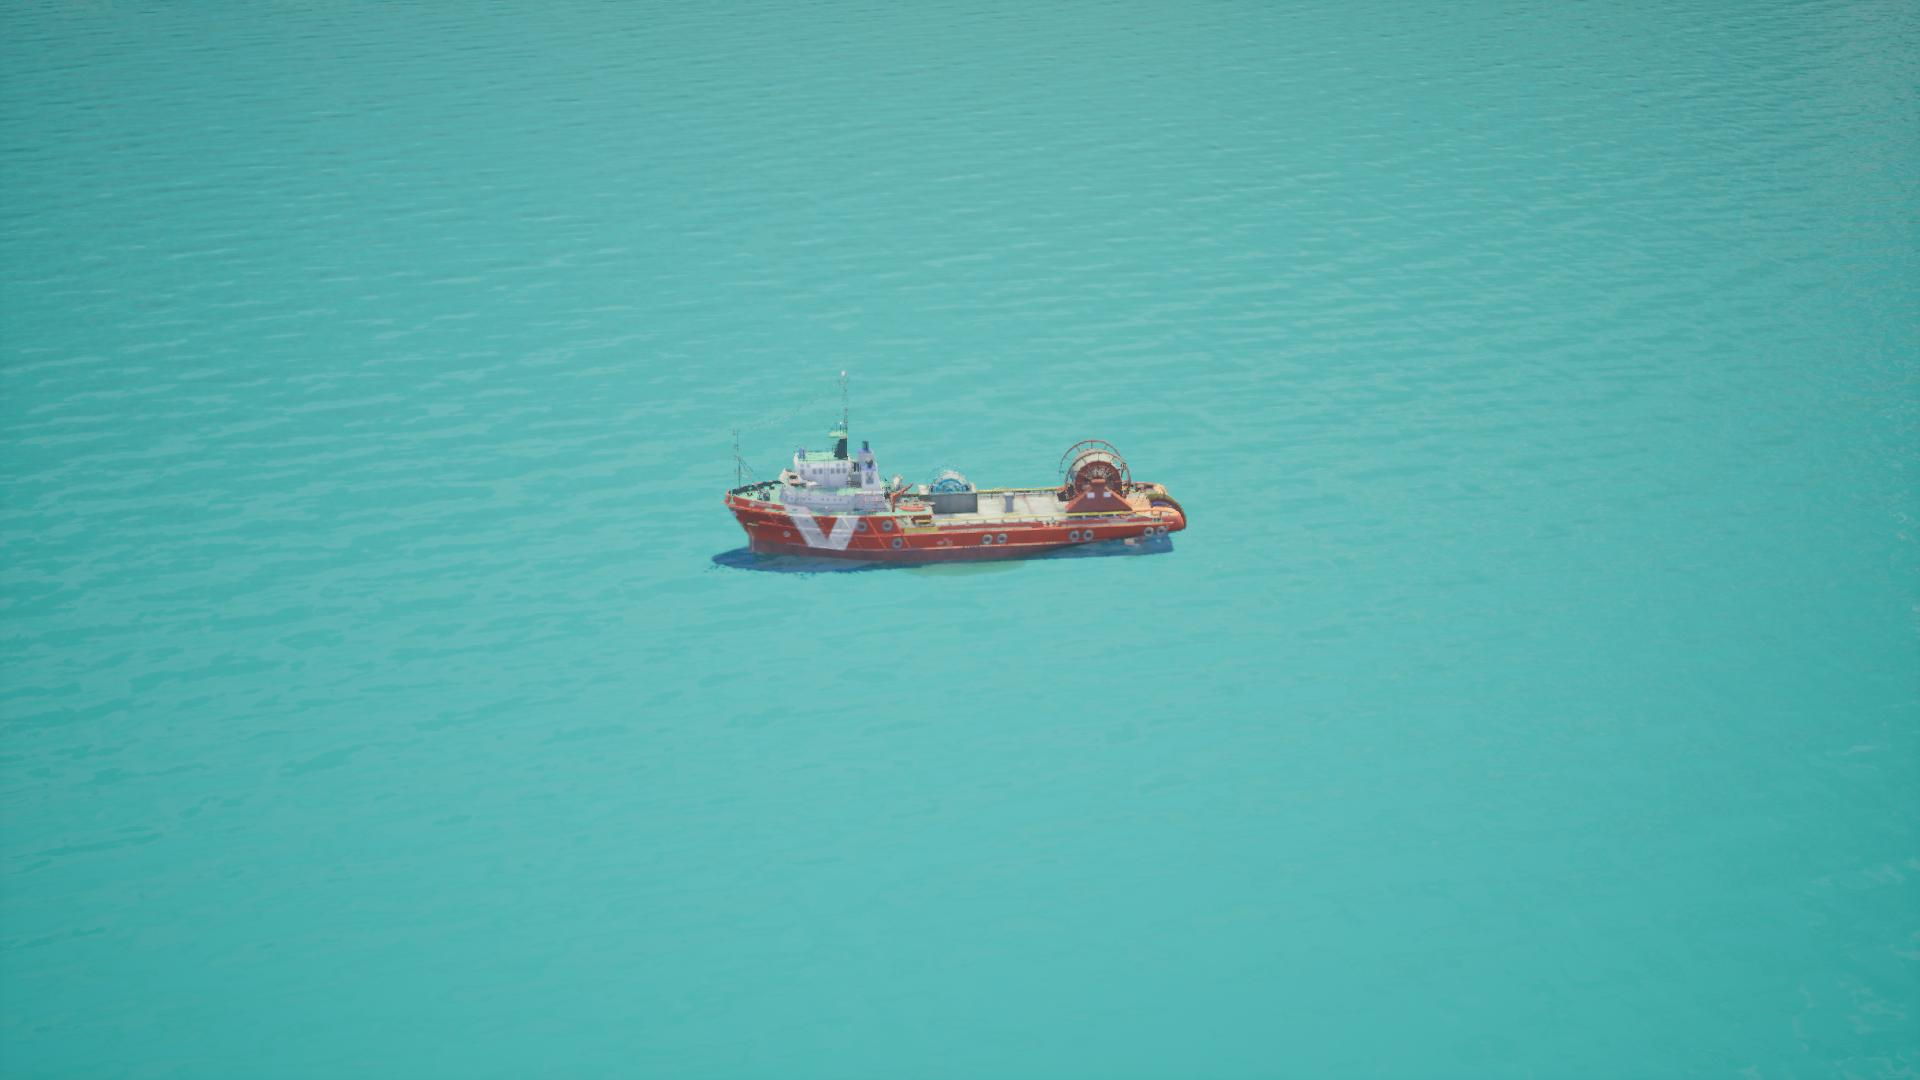Tug Boat: (713, 368, 1192, 574)
